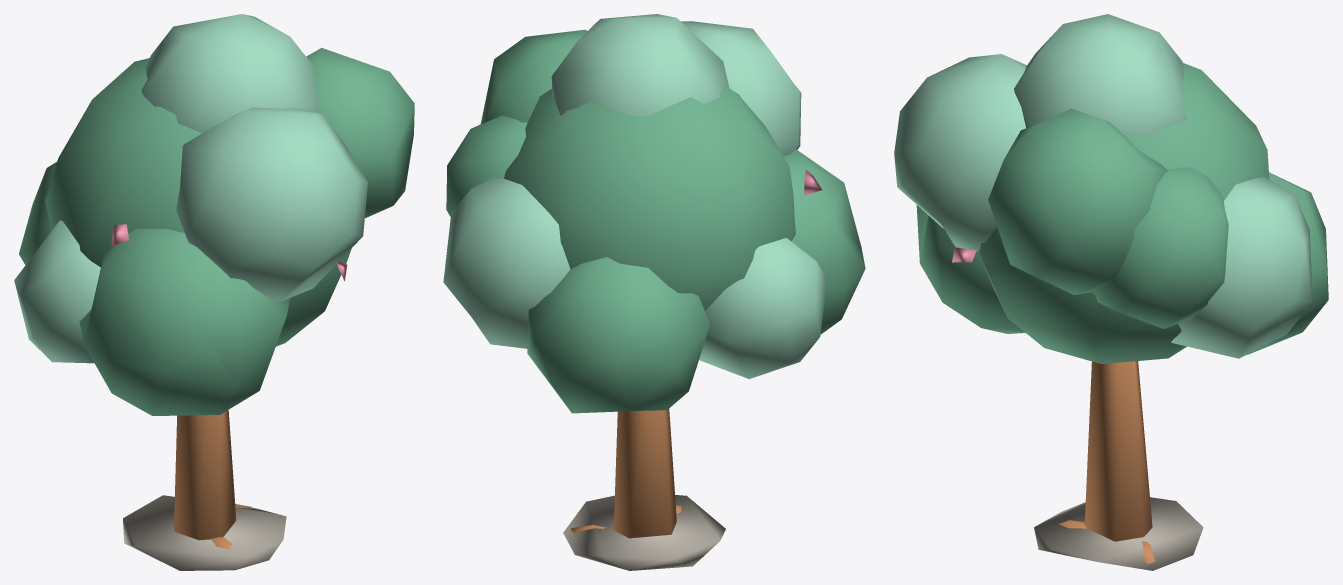
File: tree_big.glb
3 renders of one model, left to right at view 1: azimuth 30°, elevation 25°; view 2: azimuth 150°, elevation 25°; view 3: azimuth 270°, elevation 25°, orthographic. The views are drawn at different scales.
Parts seen in each view (by area): view 1: tree_big; view 2: tree_big; view 3: tree_big.
Part boxes in pixels (x1,y1,x2,y2): tree_big: (14, 14, 414, 570); tree_big: (443, 14, 865, 570); tree_big: (894, 14, 1328, 570).
Size of the model in its own units: 4.43 by 6.14 by 4.59.
1 material, 1 textured.
